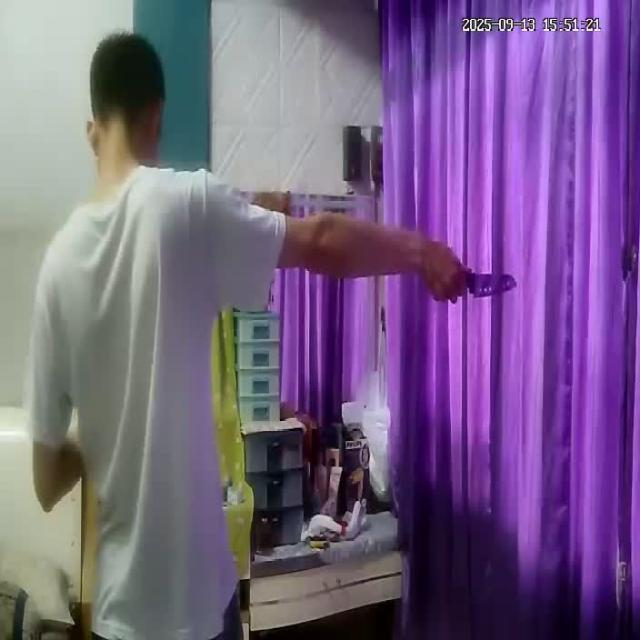senjata_tajam: (467, 271, 520, 297)
